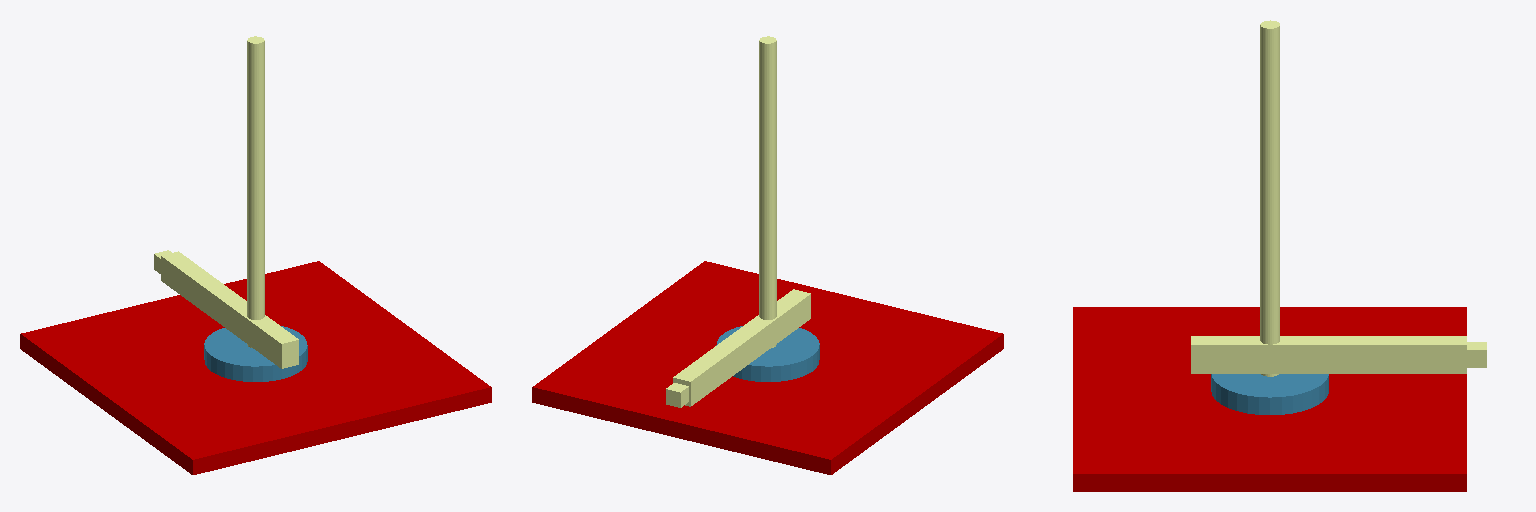
The robot description file, URDF, robot "Cylindrical":
<?xml version="1.0"?>
<robot name="Cylindrical">

 <link name="base_link">

    <visual>
        <origin xyz="0 0 0 " rpy="0 0 0" />
        <geometry>
          <box size="1.0 1.0 0.05" />
        </geometry>
        <material name="red">
        <color rgba="0.8 0.0 0.0 1.0"/>
        </material>
    </visual>

 <visual>
        <origin xyz="0 0 0.05 " rpy="0 0 0" />
        <geometry>
    <cylinder length="0.05" radius="0.15"/>
        </geometry>
  <material name="SickBlue">
    <color rgba="0.3058 0.5921 0.7294 1.0"/>
  </material>
    </visual>


  </link>


<link name="link_1">

   <visual>
        <origin xyz="0 0 0.5 " rpy="0 0 0" />
        <geometry>
        
<!--  <box size="0.05 0.05 1" /> -->
     
<cylinder length="1" radius="0.025"/>

        </geometry>
  <material name="HandGray">
    <color rgba="0.953 0.996 0.694 1.0"/>
  </material>
    </visual>

  </link>

<link name="link_2">

   <visual>
        <origin xyz="0 0.15 0" rpy="0 0 0" />
        <geometry>
          <box size="0.06 0.7 0.08" />
        </geometry>
  <material name="HandGray">
    <color rgba="0.953 0.996 0.694 1.0"/>
  </material>
    </visual>

  </link>

<link name="link_3">

   <visual>
        <origin xyz="0 -0.2 0" rpy="0 0 0" />
        <geometry>
          <box size="0.05 0.4 0.05" />
        </geometry>
  <material name="HandGray">
    <color rgba="0.953 0.996 0.694 1.0"/>
  </material>
    </visual>

  </link>

  <link name="tool0"/>


 <joint name="joint_1" type="revolute">
    <axis xyz="0 0 1"/>
    <limit effort="306" lower="-3.14159" upper="3.14159" velocity="0.5"/>
    <origin rpy="0 0 0" xyz="0 0 0.05"/>
    <parent link="base_link"/>
    <child link="link_1"/>
  </joint>

    <joint name="joint_2" type="prismatic">
        <axis xyz="0 0 1"/>
        <parent link="link_1"/>
        <child link="link_2"/>
        <origin xyz="0 0 0.075" rpy="0 0 0"/>
        <limit lower="0" upper="0.85" effort="1000.0" velocity="1.0"/>
    </joint>

    <joint name="joint_3" type="prismatic">
        <axis xyz="0 1 0"/>
        <parent link="link_2"/>
        <child link="link_3"/>
        <origin xyz="0 0.55 0" rpy="0 0 0"/>
        <limit lower="0" upper="0.35" effort="1000.0" velocity="1.0"/>
    </joint>

    <joint name="joint3-tool0" type="fixed">
      <parent link="link_3"/>
      <child link="tool0"/>
      <origin rpy="0 0 0" xyz="0 0 0"/>
    </joint>



</robot>

--- Facts derived from the render (not from the file) ---
3 views of the same robot in one strip: view 1: azimuth 30°, elevation 25°; view 2: azimuth 150°, elevation 25°; view 3: azimuth 270°, elevation 25° (orthographic).
Model Cylindrical with 5 links and 4 joints (1 revolute, 2 prismatic, 1 fixed), rooted at base_link, posed all joints at 0.
Visible links, largest first — view 1: base_link, link_2, link_1; view 2: base_link, link_1, link_2; view 3: base_link, link_2, link_1.
Link boxes in pixels (x1,y1,x2,y2): base_link: (20,261,491,474); link_2: (161,251,298,368); link_1: (247,36,264,347); base_link: (532,261,1003,474); link_1: (759,36,776,347); link_2: (673,289,810,406); base_link: (1073,307,1466,491); link_2: (1191,336,1466,373); link_1: (1260,20,1279,376).
Bounding box of the posed robot: 1 × 1.05 × 1.07 m (x, y, z).
Geometry: primitives only (box / cylinder / sphere), no mesh files.